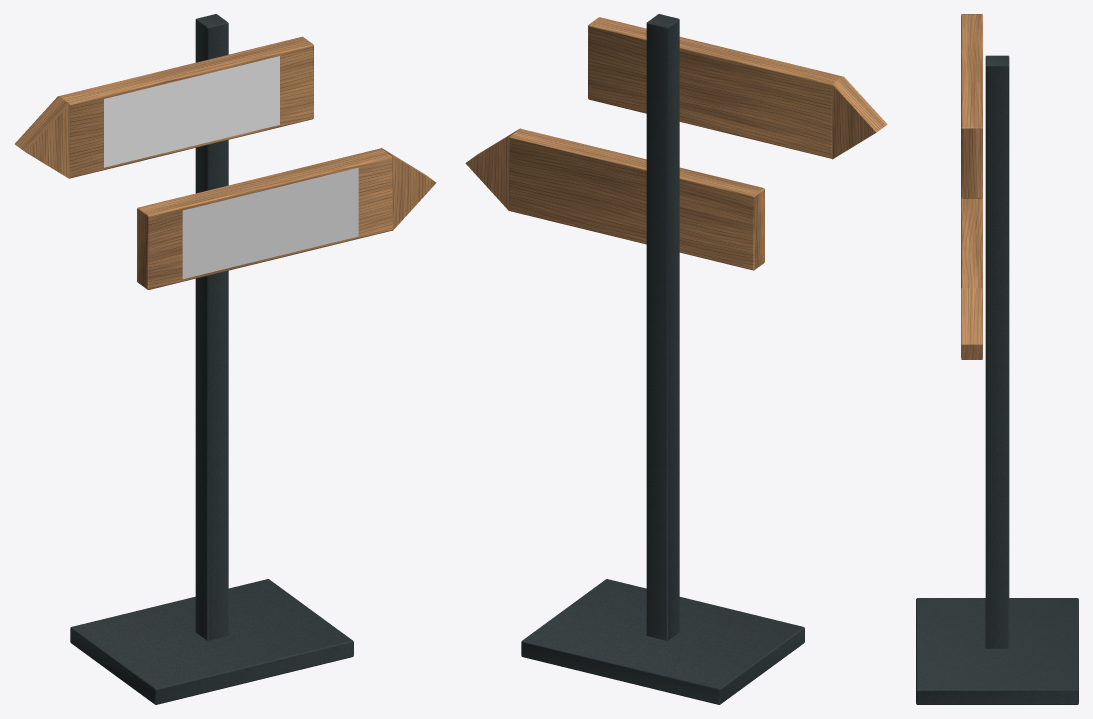
Rendered from preview.glb.
3 renders of one model, left to right at view 1: azimuth 30°, elevation 25°; view 2: azimuth 150°, elevation 25°; view 3: azimuth 270°, elevation 25°, orthographic. The views are drawn at different scales.
Parts seen in each view (by area): view 1: Direction; view 2: Direction; view 3: Direction.
Boxes of the visible parts, x1,y1,x2,y2 form: Direction: [14, 14, 436, 704]; Direction: [465, 14, 887, 704]; Direction: [916, 14, 1078, 704].
Size of the model in its own units: 0.888 by 1.3 by 0.32.
Materials: 4 (2 with a texture image).
